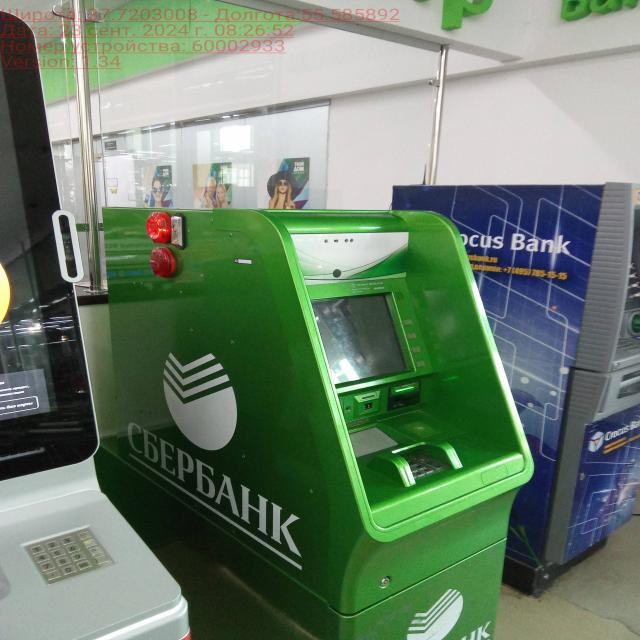bank: (88, 203, 537, 640)
